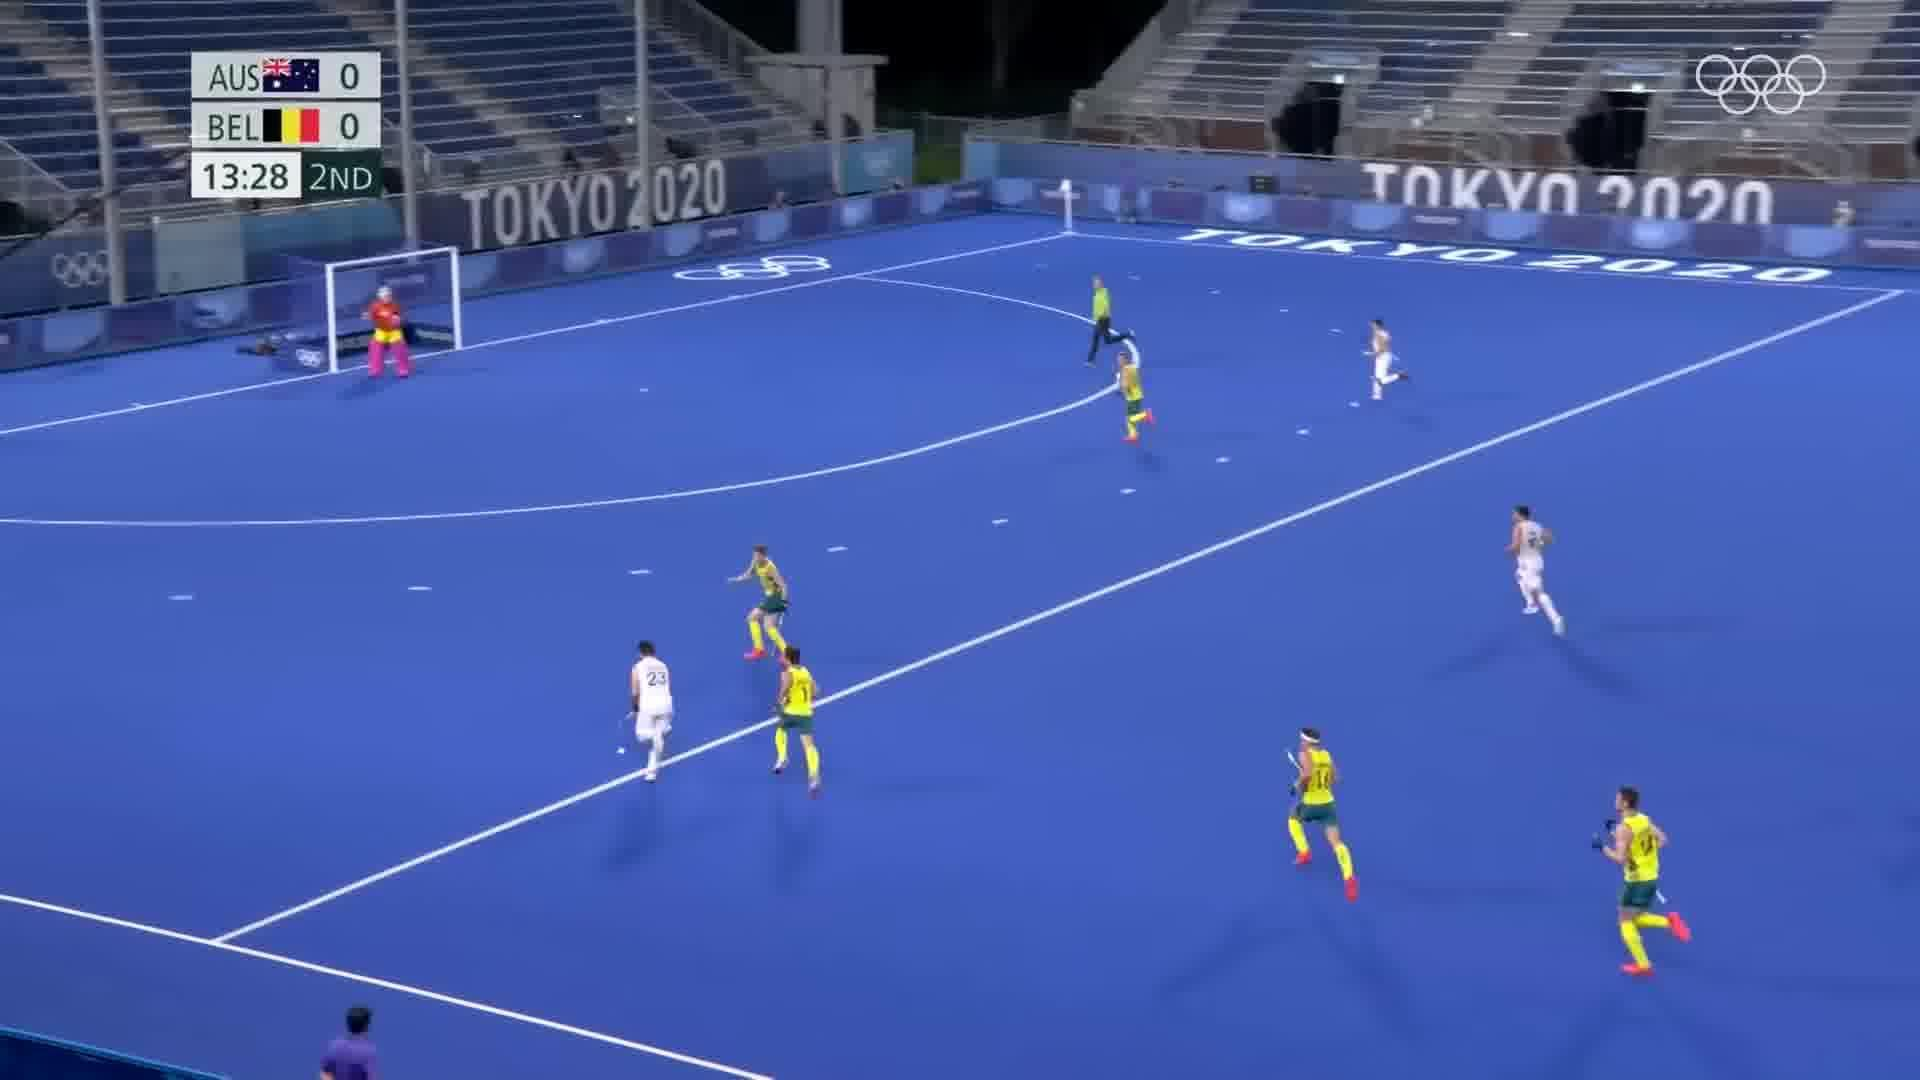ball: (612, 742, 632, 764)
